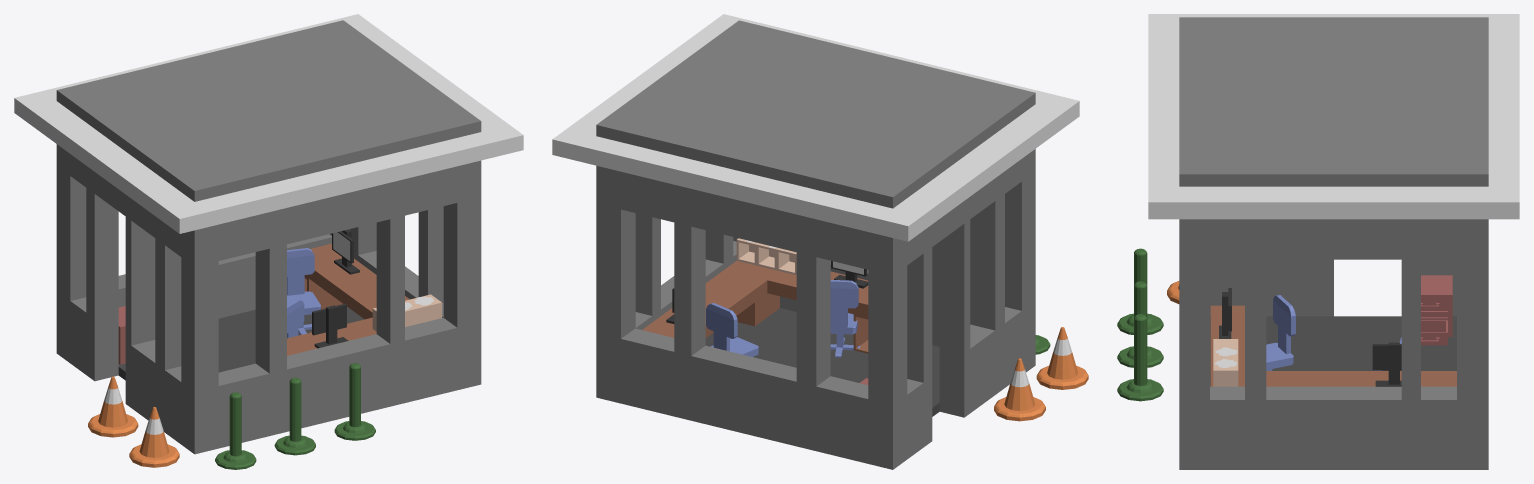
The model's file is Security_Booth_01.fbx.
The picture shows the model from 3 angles, left to right: view 1: azimuth 30°, elevation 25°; view 2: azimuth 150°, elevation 25°; view 3: azimuth 270°, elevation 25°; orthographic projection. The views are drawn at different scales.
Visible parts, largest first — view 1: Shell, Roof, Desk, Floor, Chair1, Pylon1, Pylon, Security_Cones3, Security_Cones2, Security_Cones1, Computer.001, shelf (+2 smaller); view 2: Shell, Roof, Desk, Floor, Chair2, Pylon, Pylon1, Chair1, shelf; view 3: Shell, Roof, Floor, Desk, Drawer, Security_Cones1, Chair2, Computer, Security_Cones2, Security_Cones3, shelf, Computer.001.
Part boxes in pixels (x1=…): Shell: x1=56, y1=20, x2=481, y2=454; Roof: x1=14, y1=14, x2=523, y2=233; Desk: x1=287, y1=243, x2=409, y2=355; Floor: x1=118, y1=307, x2=364, y2=380; Chair1: x1=287, y1=248, x2=320, y2=334; Pylon1: x1=88, y1=376, x2=138, y2=437; Pylon: x1=129, y1=407, x2=179, y2=467; Security_Cones3: x1=215, y1=392, x2=256, y2=469; Security_Cones2: x1=274, y1=377, x2=315, y2=455; Security_Cones1: x1=334, y1=363, x2=375, y2=440; Computer.001: x1=312, y1=303, x2=348, y2=348; shelf: x1=372, y1=294, x2=441, y2=331; Shell: x1=596, y1=20, x2=1035, y2=469; Roof: x1=552, y1=14, x2=1079, y2=241; Desk: x1=642, y1=261, x2=868, y2=353; Floor: x1=705, y1=308, x2=939, y2=416; Chair2: x1=830, y1=280, x2=860, y2=357; Pylon: x1=1036, y1=327, x2=1088, y2=389; Pylon1: x1=994, y1=358, x2=1045, y2=421; Chair1: x1=706, y1=303, x2=758, y2=356; shelf: x1=736, y1=238, x2=796, y2=275; Shell: x1=1179, y1=17, x2=1488, y2=469; Roof: x1=1148, y1=14, x2=1519, y2=219; Floor: x1=1210, y1=316, x2=1456, y2=386; Desk: x1=1210, y1=305, x2=1456, y2=386; Drawer: x1=1421, y1=275, x2=1452, y2=345; Security_Cones1: x1=1117, y1=314, x2=1163, y2=401; Chair2: x1=1266, y1=295, x2=1295, y2=370; Computer: x1=1372, y1=342, x2=1401, y2=386; Security_Cones2: x1=1117, y1=281, x2=1163, y2=367; Security_Cones3: x1=1117, y1=248, x2=1163, y2=334; shelf: x1=1213, y1=339, x2=1238, y2=386; Computer.001: x1=1219, y1=288, x2=1231, y2=338.
Size of the model in its own units: 1531 by 1041 by 1284.
